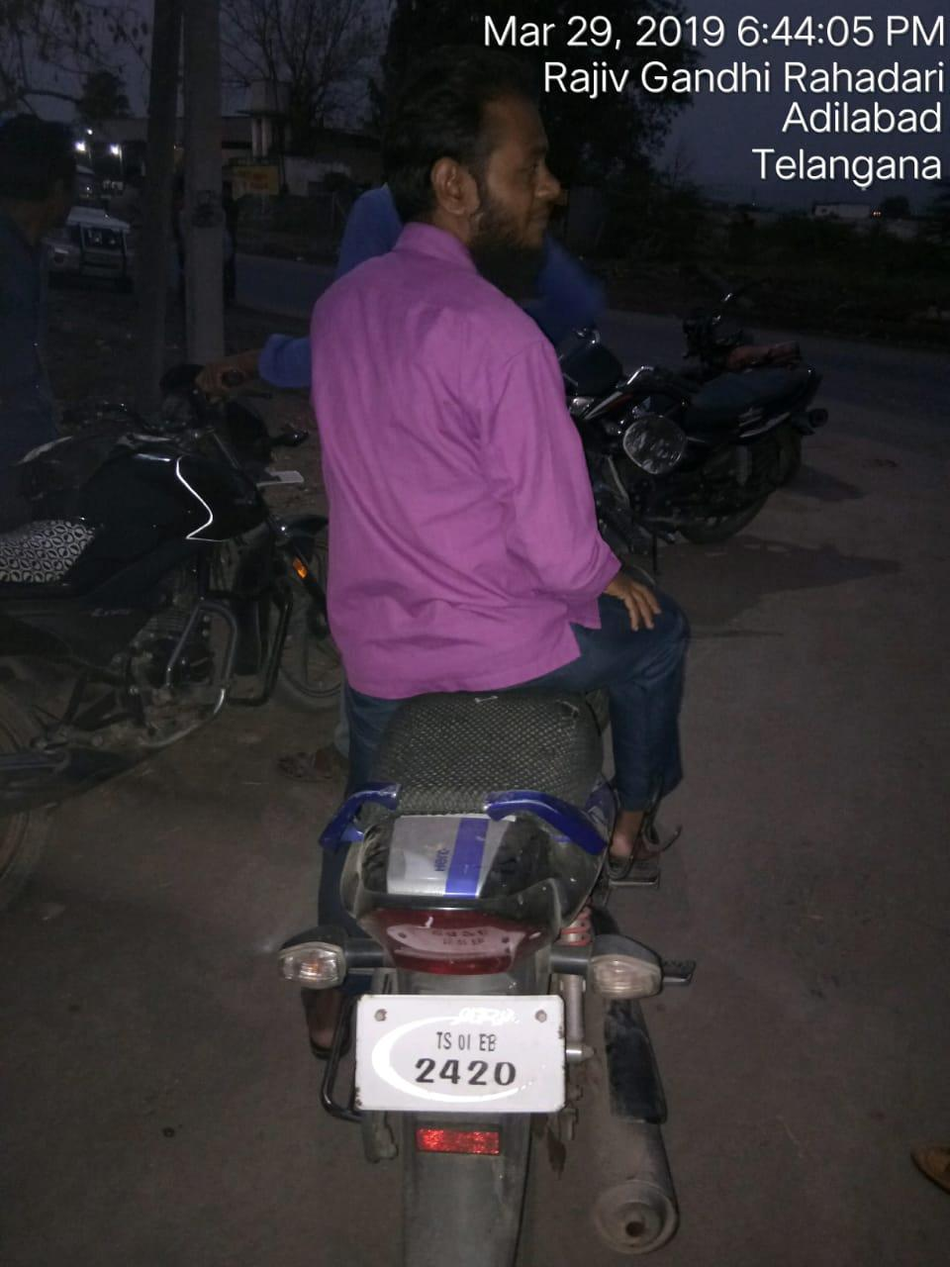plate: (344, 969, 588, 1123)
